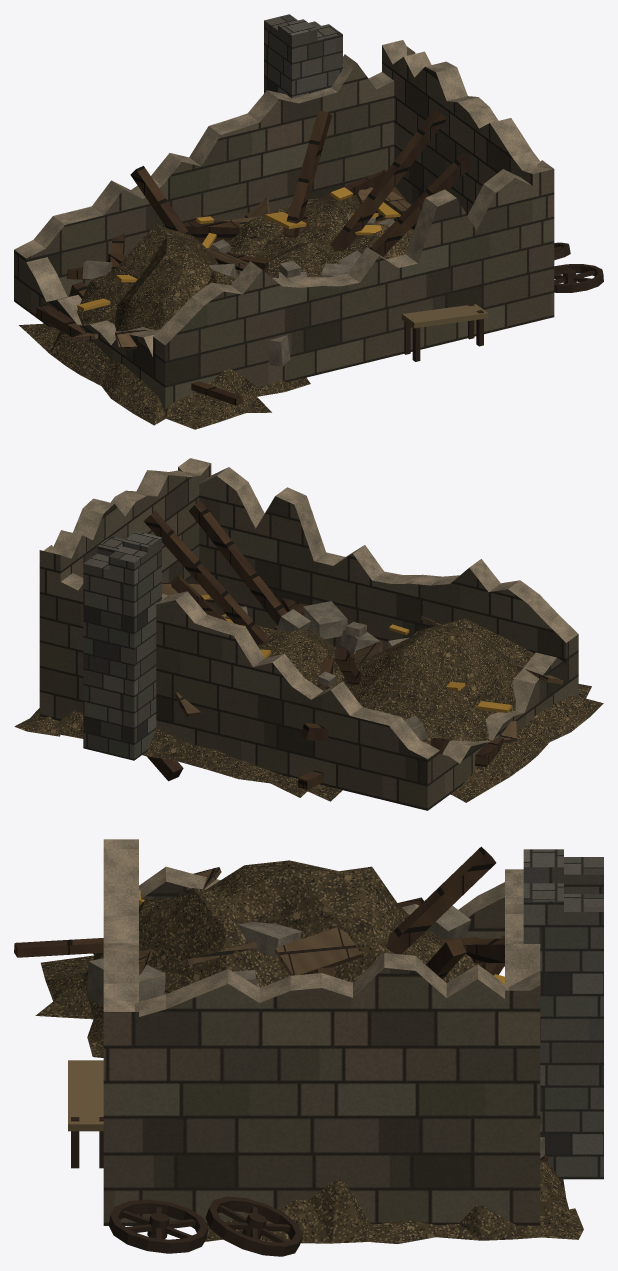
Rendered from AraHut08a.glb.
The picture shows the model from 3 angles, top to bottom: view 1: azimuth 30°, elevation 25°; view 2: azimuth 150°, elevation 25°; view 3: azimuth 270°, elevation 25°; orthographic projection. The views are drawn at different scales.
Visible parts, largest first — view 1: AraHut08a_rwall; view 2: AraHut08a_rwall; view 3: AraHut08a_rwall.
Part boxes in pixels (x1,y1,x2,y2): AraHut08a_rwall: [14, 14, 603, 429]; AraHut08a_rwall: [14, 458, 603, 810]; AraHut08a_rwall: [14, 839, 603, 1256].
Size of the model in its own units: 6.73 by 3.11 by 5.
10 materials, 7 textured.
